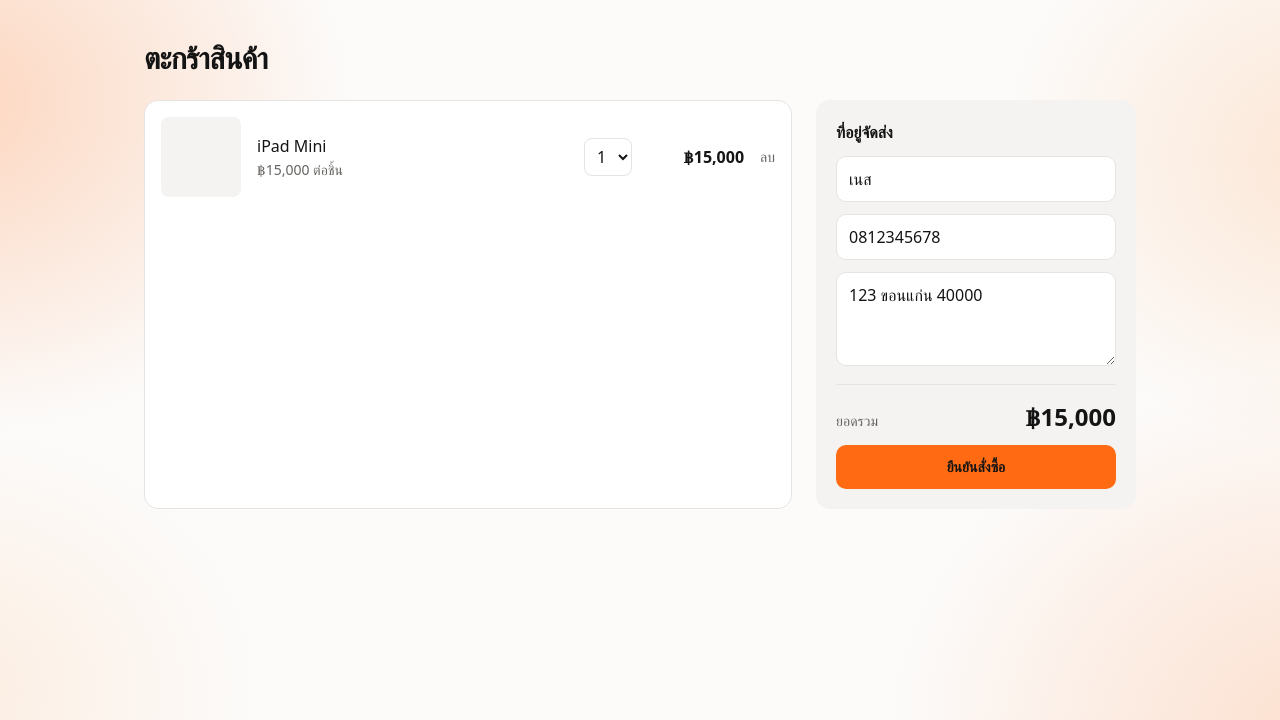
Test case: เปลี่ยนจำนวน ส่ง PUT พร้อม token แล้วยอดรวมอัปเดตตามที่ server ตอบ
Expected: the text with test id "cart-total" reads "฿15,000", 1026,400 -> 1116,433
Select "3" in the dropdown named "จำนวน iPad Mini": (608, 157) 584,138 -> 632,176
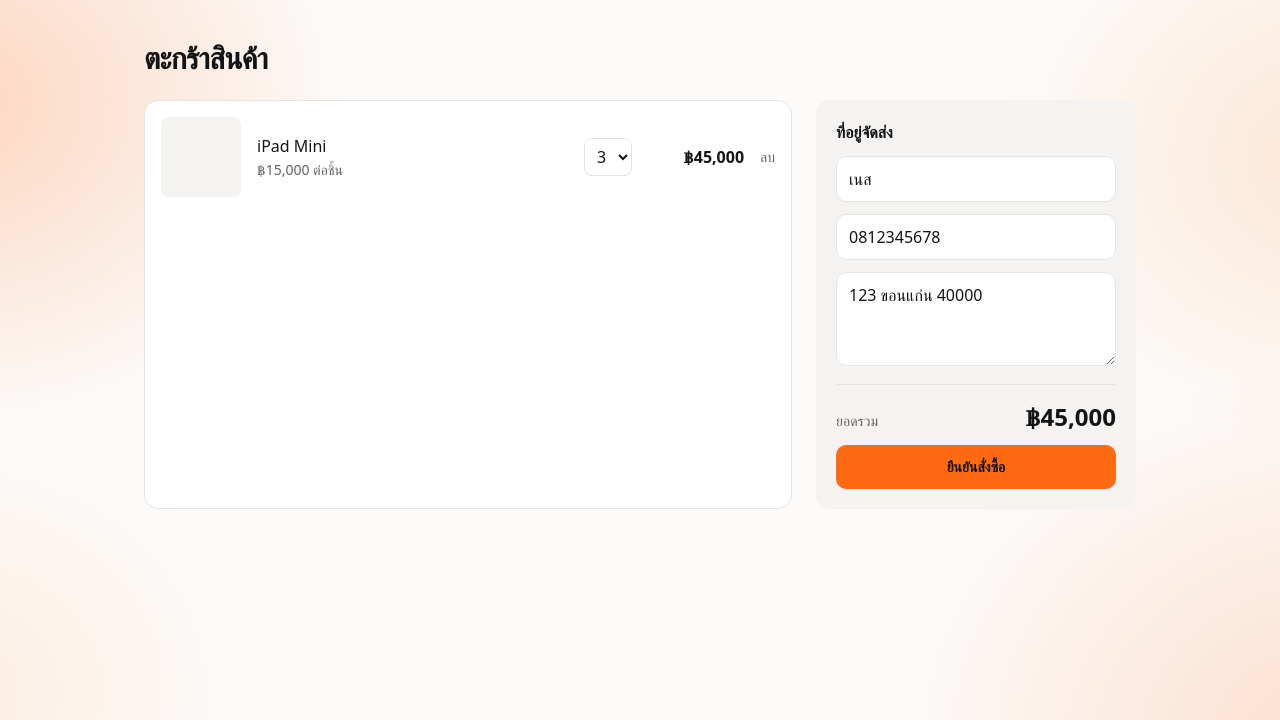
Expected: the text with test id "cart-total" reads "฿45,000", 1026,400 -> 1116,433
